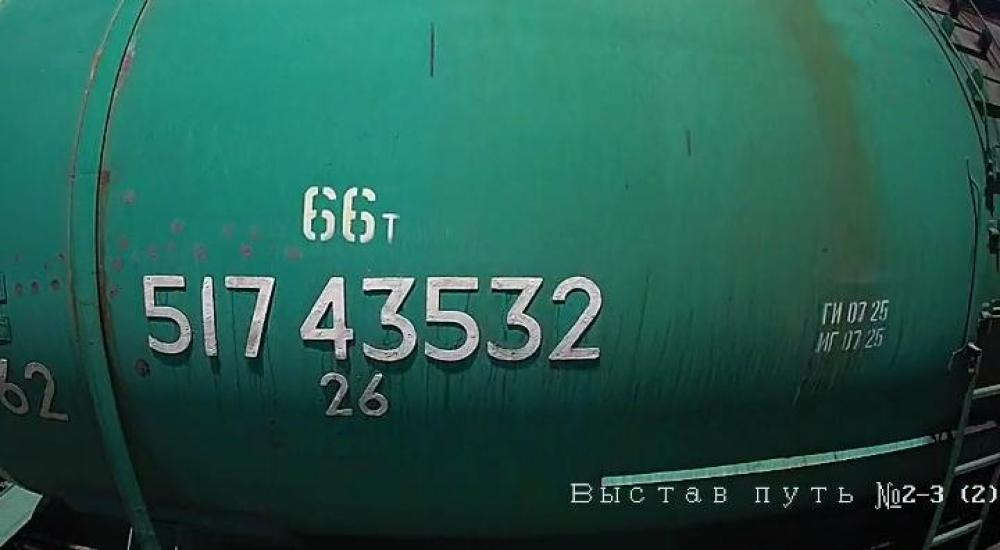Wagon-number: (135, 264, 612, 370)
